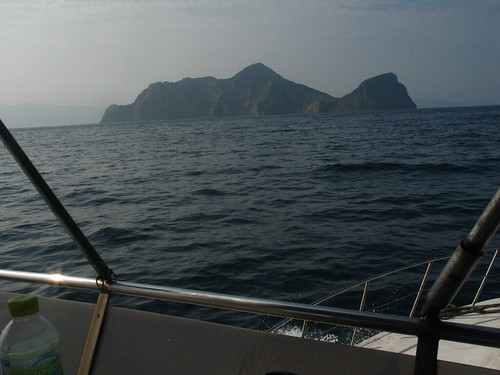turtleIsland: (91, 54, 418, 117)
